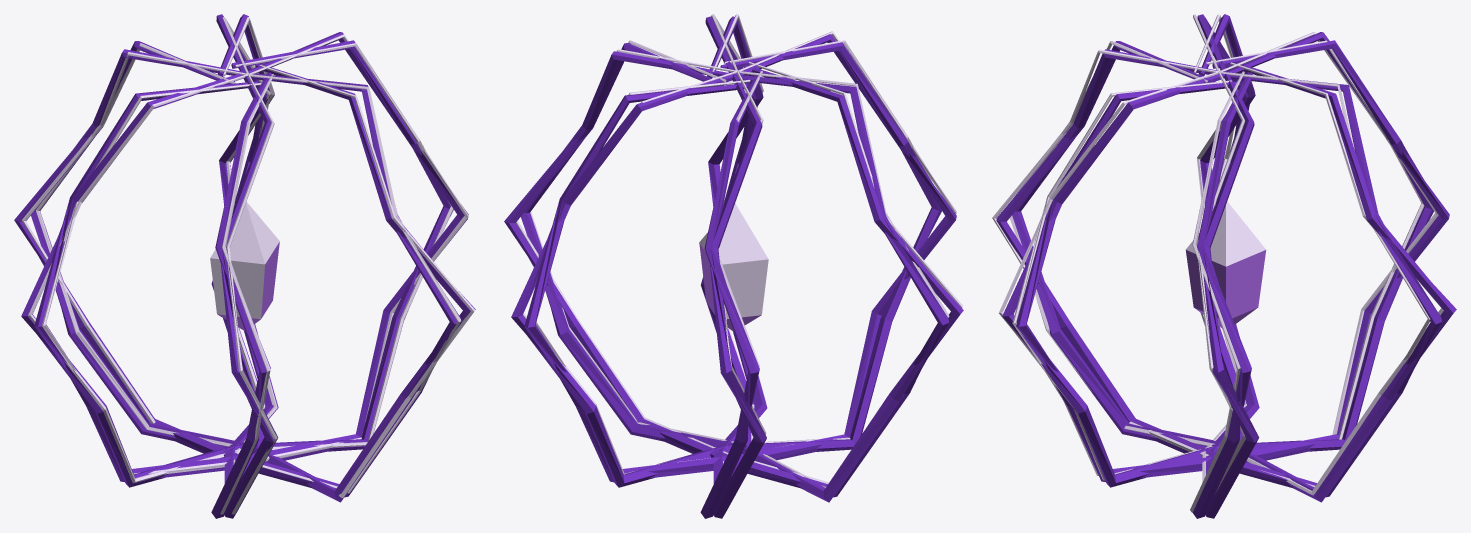
The model's file is VFX_59_FulmineSferaTesla.fbx.
3 renders of one model, left to right at view 1: azimuth 30°, elevation 25°; view 2: azimuth 150°, elevation 25°; view 3: azimuth 270°, elevation 25°, orthographic.
Visible parts, largest first — view 1: VFX_59_FulmineSferaTesla; view 2: VFX_59_FulmineSferaTesla; view 3: VFX_59_FulmineSferaTesla.
Part boxes in pixels (left/top/right/bottom): VFX_59_FulmineSferaTesla: left=14, top=14, right=475, bottom=518; VFX_59_FulmineSferaTesla: left=504, top=14, right=963, bottom=518; VFX_59_FulmineSferaTesla: left=992, top=14, right=1456, bottom=518.
Size of the model in its own units: 283 by 245 by 259.
1 material, 1 textured.
